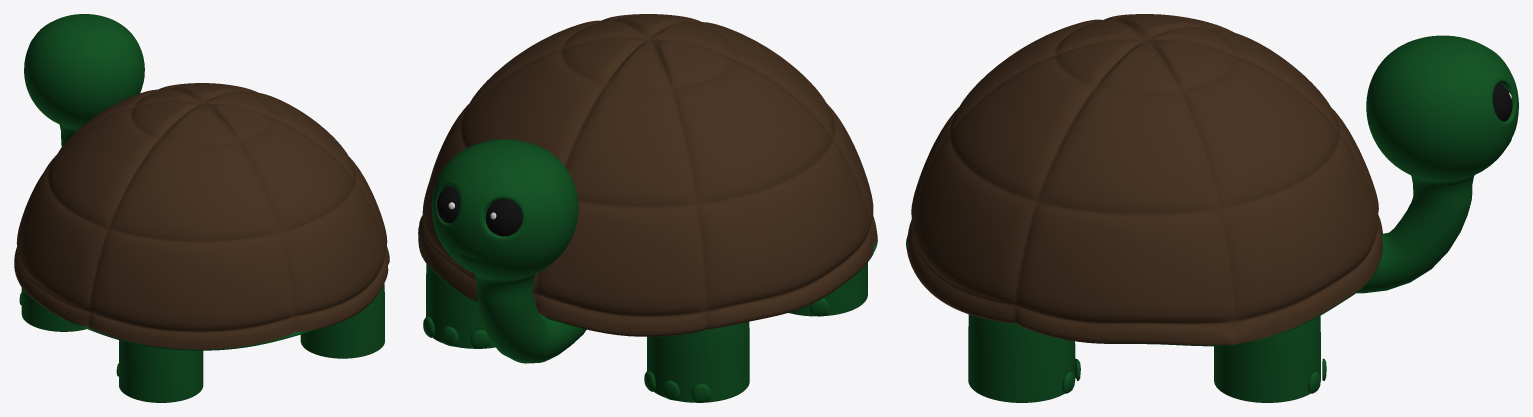
File: turtle.fbx
3 renders of one model, left to right at view 1: azimuth 30°, elevation 25°; view 2: azimuth 150°, elevation 25°; view 3: azimuth 270°, elevation 25°, orthographic. The views are drawn at different scales.
Visible parts, largest first — view 1: Cylinder; view 2: Cylinder; view 3: Cylinder.
Part boxes in pixels (left/top/right/bottom): Cylinder: left=14, top=14, right=389, bottom=402; Cylinder: left=418, top=14, right=877, bottom=402; Cylinder: left=906, top=14, right=1518, bottom=402.
Bounding box in the file's own units: 198 × 132 × 255.
